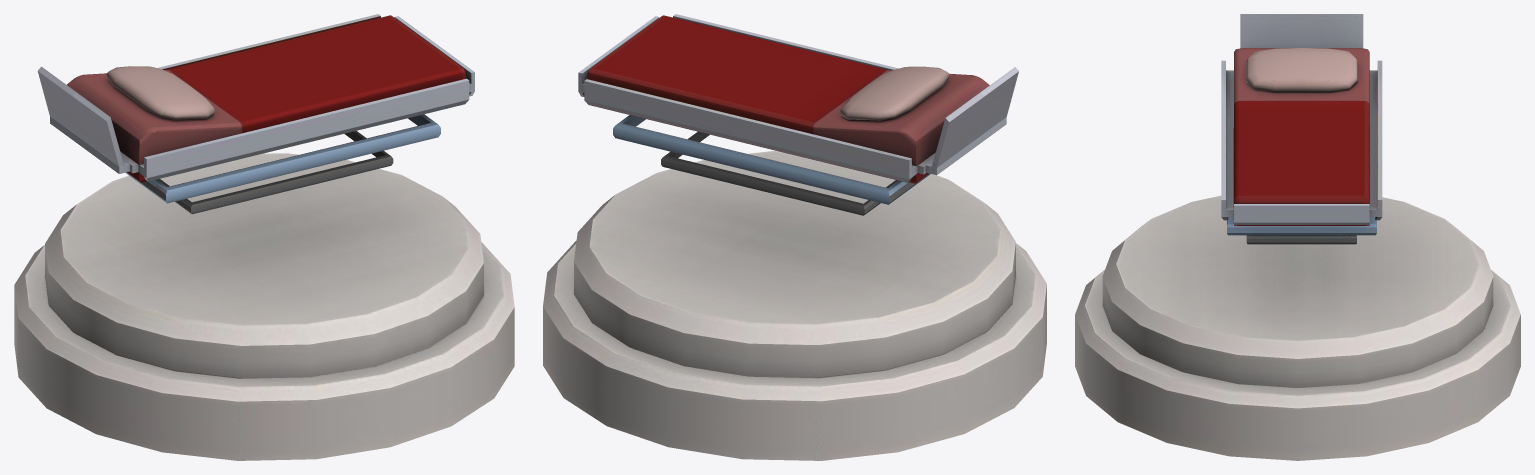
Rendered from MACAPRATA.fbx.
The picture shows the model from 3 angles, left to right: view 1: azimuth 30°, elevation 25°; view 2: azimuth 150°, elevation 25°; view 3: azimuth 270°, elevation 25°; orthographic projection. The views are drawn at different scales.
Parts seen in each view (by area): view 1: polySurface19, polySurface16; view 2: polySurface19, polySurface16; view 3: polySurface19, polySurface16.
Part boxes in pixels (bbox=[...]): polySurface19: bbox=[14, 153, 514, 460]; polySurface16: bbox=[37, 14, 474, 214]; polySurface19: bbox=[543, 151, 1046, 460]; polySurface16: bbox=[578, 14, 1018, 215]; polySurface19: bbox=[1075, 195, 1520, 460]; polySurface16: bbox=[1221, 14, 1382, 244].
Size of the model in its own units: 0.4773 by 0.3217 by 0.4773.
Materials: 1 (1 with a texture image).
